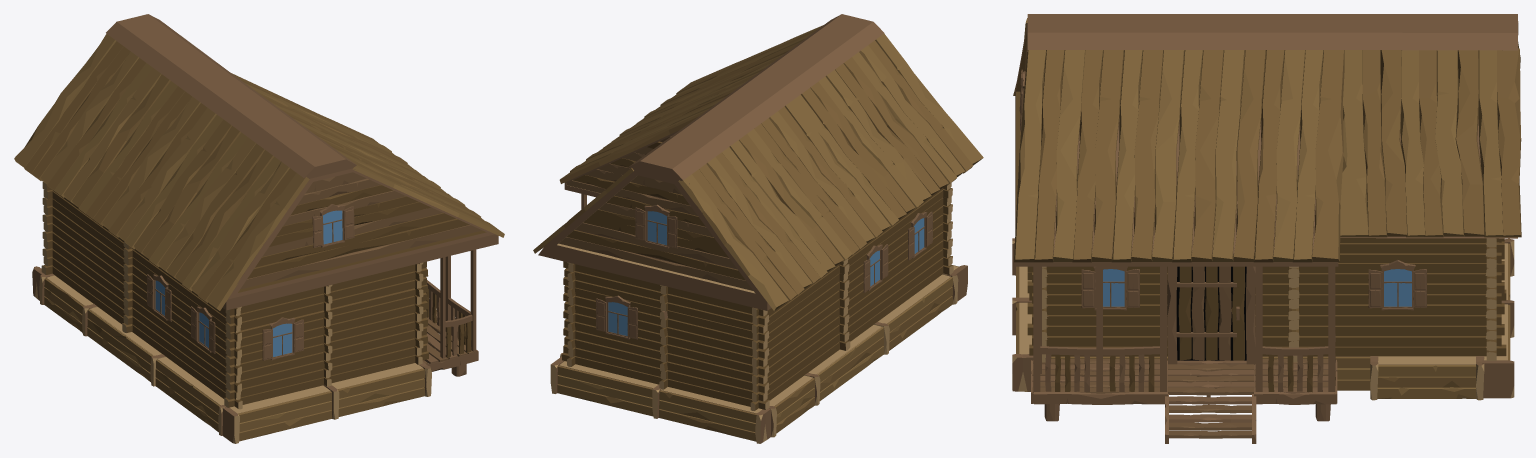
The model's file is WoodHouse.glb.
The picture shows the model from 3 angles, left to right: view 1: azimuth 30°, elevation 25°; view 2: azimuth 150°, elevation 25°; view 3: azimuth 270°, elevation 25°; orthographic projection. The views are drawn at different scales.
Visible parts, largest first — view 1: House; view 2: House; view 3: House.
Boxes of the visible parts, <box> form: House: <box>14,14,504,443</box>; House: <box>533,14,983,443</box>; House: <box>1012,14,1521,443</box>.
Bounding box in the file's own units: 3.2 × 2.56 × 3.79.
